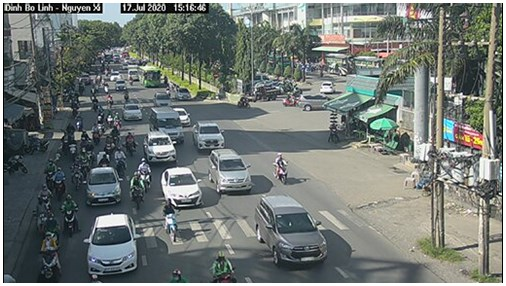xe_buyt: (136, 63, 162, 88)
xe_hoi: (254, 192, 331, 268), (83, 212, 139, 278), (207, 148, 253, 196), (160, 165, 205, 208), (85, 167, 123, 208), (143, 132, 176, 165), (190, 119, 225, 150), (123, 102, 143, 123), (153, 91, 173, 106)
xe_khach: (148, 105, 184, 145)
xe_may: (38, 231, 61, 279), (60, 192, 81, 235), (162, 196, 181, 241), (271, 151, 292, 185), (129, 172, 145, 210), (136, 158, 153, 190), (35, 198, 49, 234), (67, 157, 82, 190), (40, 157, 56, 185), (122, 131, 139, 157), (52, 166, 66, 197), (113, 146, 127, 176), (35, 184, 51, 210), (67, 132, 76, 158), (86, 138, 94, 163)
